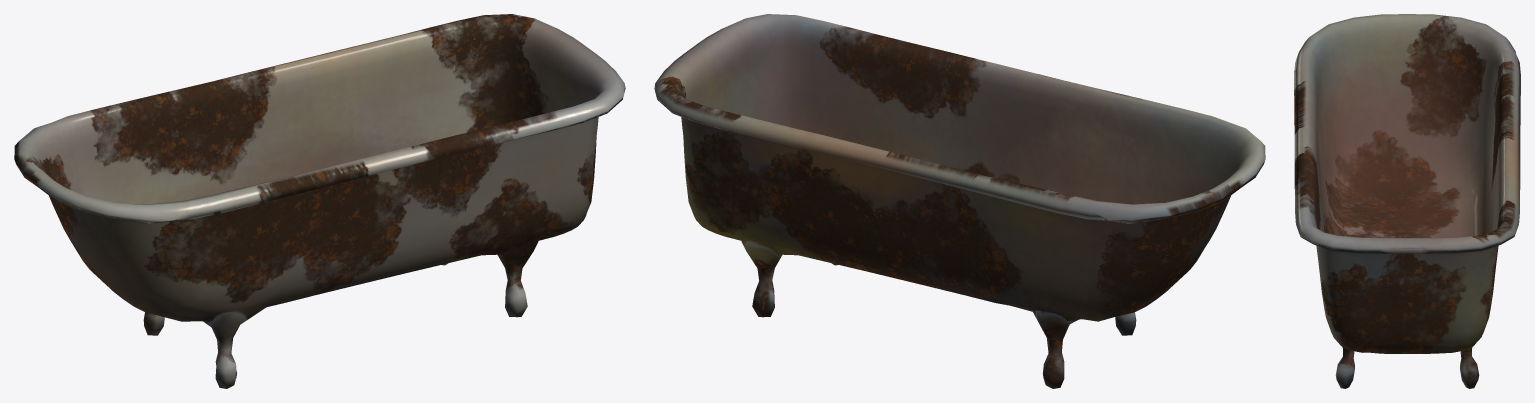
Rendered from ванна Untitled.glb.
3 views of the same model, side by side, from view 1: azimuth 30°, elevation 25°; view 2: azimuth 150°, elevation 25°; view 3: azimuth 270°, elevation 25° (orthographic). The views are drawn at different scales.
Parts seen in each view (by area): view 1: ВАННА ЛОУ; view 2: ВАННА ЛОУ; view 3: ВАННА ЛОУ.
Part boxes in pixels (box(x1,y1,x2,y2)): ВАННА ЛОУ: box(14, 14, 625, 388); ВАННА ЛОУ: box(654, 14, 1265, 388); ВАННА ЛОУ: box(1294, 14, 1520, 388).
Size of the model in its own units: 5.06 by 1.93 by 2.08.
1 material, 1 textured.
